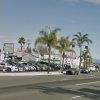Palm tree: (38, 20, 94, 87)
